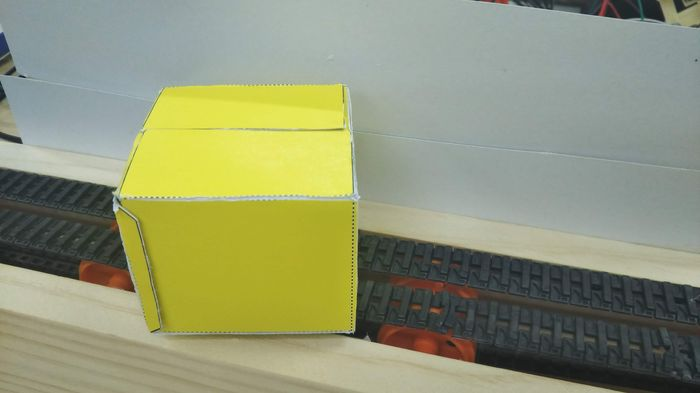box4: (107, 76, 361, 343)
